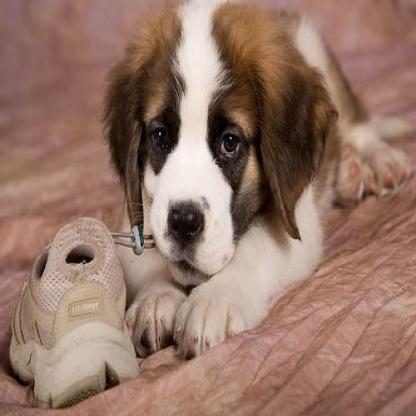Saint_Bernard: (93, 0, 414, 357)
